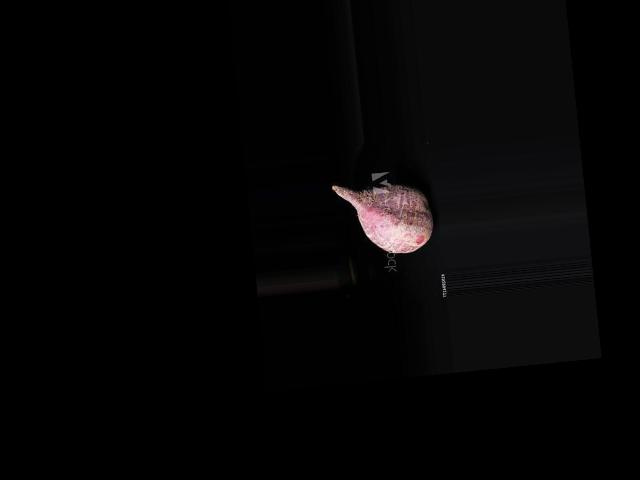beet: (332, 176, 434, 260)
